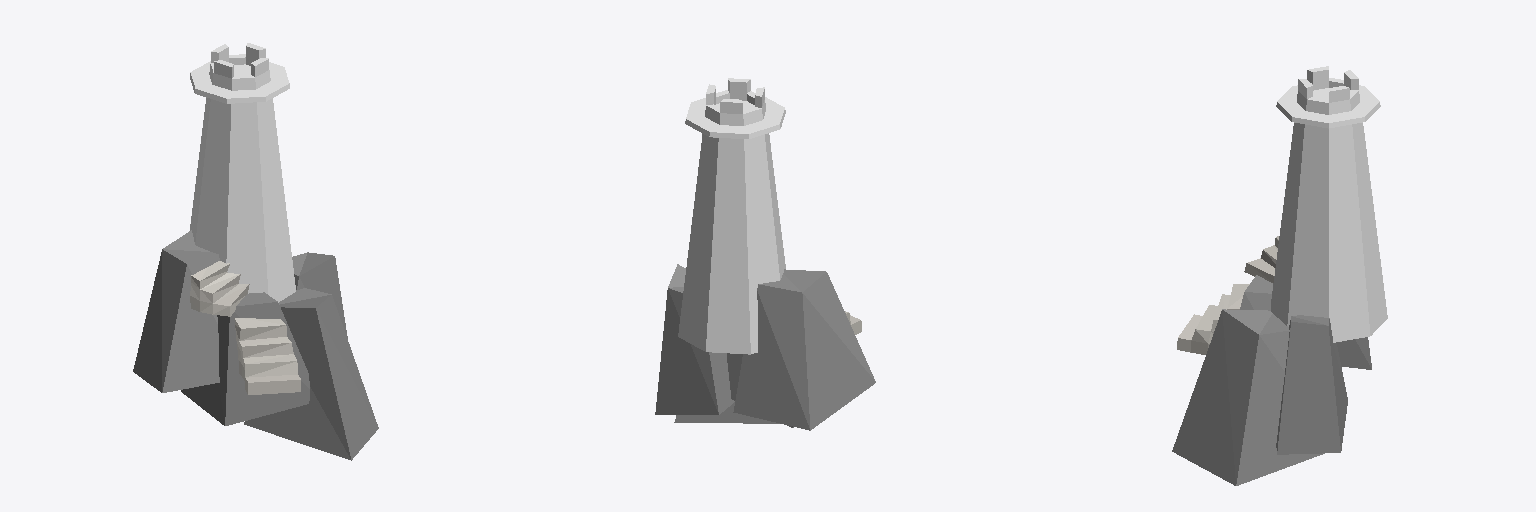
Rendered from lighthouse.obj.
3 views of the same model, side by side, from view 1: azimuth 30°, elevation 25°; view 2: azimuth 150°, elevation 25°; view 3: azimuth 270°, elevation 25° (orthographic).
Parts seen in each view (by area): view 1: _灯塔, 立方体.2, 立方体, 立方体.1, 立方体.5, 立方体.4, _灯塔.1, 立方体.3; view 2: _灯塔, 立方体, 立方体.3, _灯塔.1, 立方体.2; view 3: _灯塔, 立方体.2, 立方体.3, _灯塔.1, 立方体.5, 立方体, 立方体.1, 立方体.4.
Part boxes in pixels (x1,y1,x2,y2): _灯塔: (190,43,295,302); 立方体.2: (244,288,378,460); 立方体: (133,230,219,392); 立方体.1: (181,292,309,425); 立方体.5: (234,318,300,394); 立方体.4: (190,261,249,316); _灯塔.1: (190,61,289,103); 立方体.3: (292,252,347,338); _灯塔: (678,78,785,354); 立方体: (733,269,875,430); 立方体.3: (655,264,734,414); _灯塔.1: (685,97,785,138); 立方体.2: (674,402,779,423); _灯塔: (1271,66,1387,342); 立方体.2: (1172,309,1324,485); 立方体.3: (1276,315,1347,454); _灯塔.1: (1276,85,1380,128); 立方体.5: (1177,284,1249,354); 立方体: (1337,337,1371,369); 立方体.1: (1240,275,1272,310); 立方体.4: (1244,236,1278,282).
Bounding box in the file's own units: 4.63 × 7.93 × 4.29.